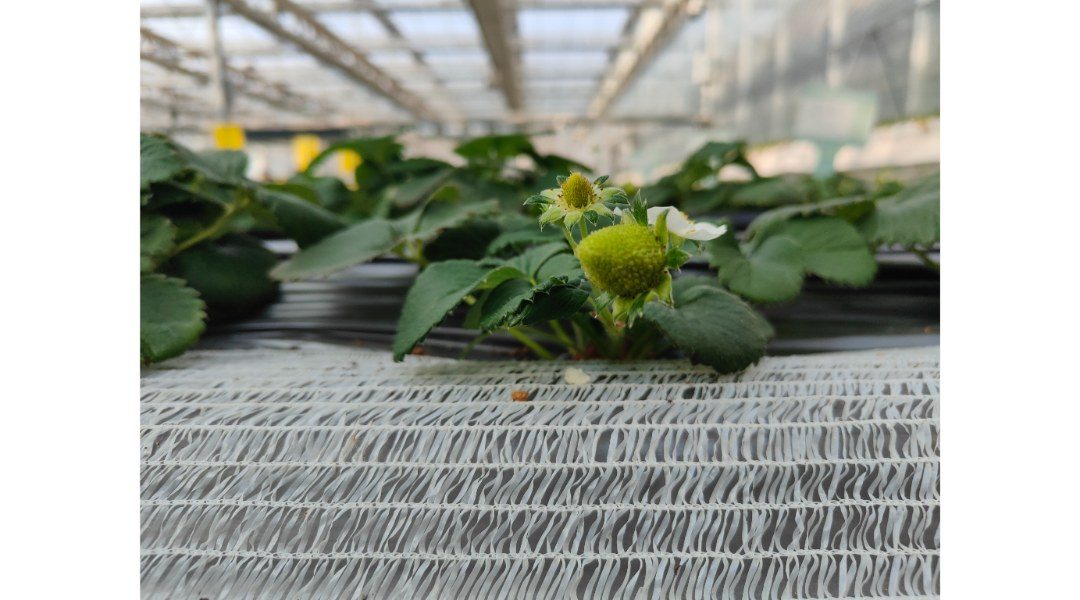berry: (573, 225, 671, 308), (538, 162, 618, 219)
flower: (614, 196, 745, 238)
